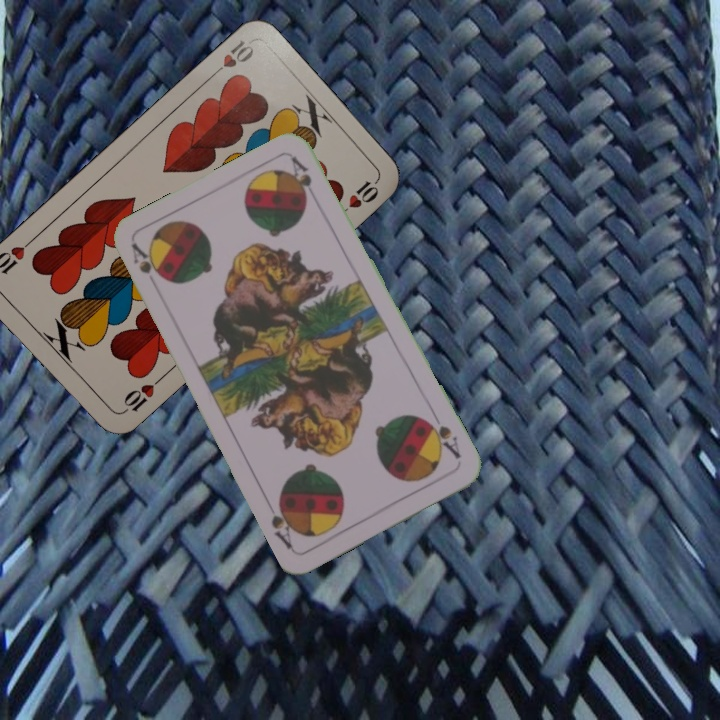H10: (205, 36, 257, 81), (118, 372, 166, 417)
SA: (421, 414, 464, 462), (127, 239, 166, 283)
